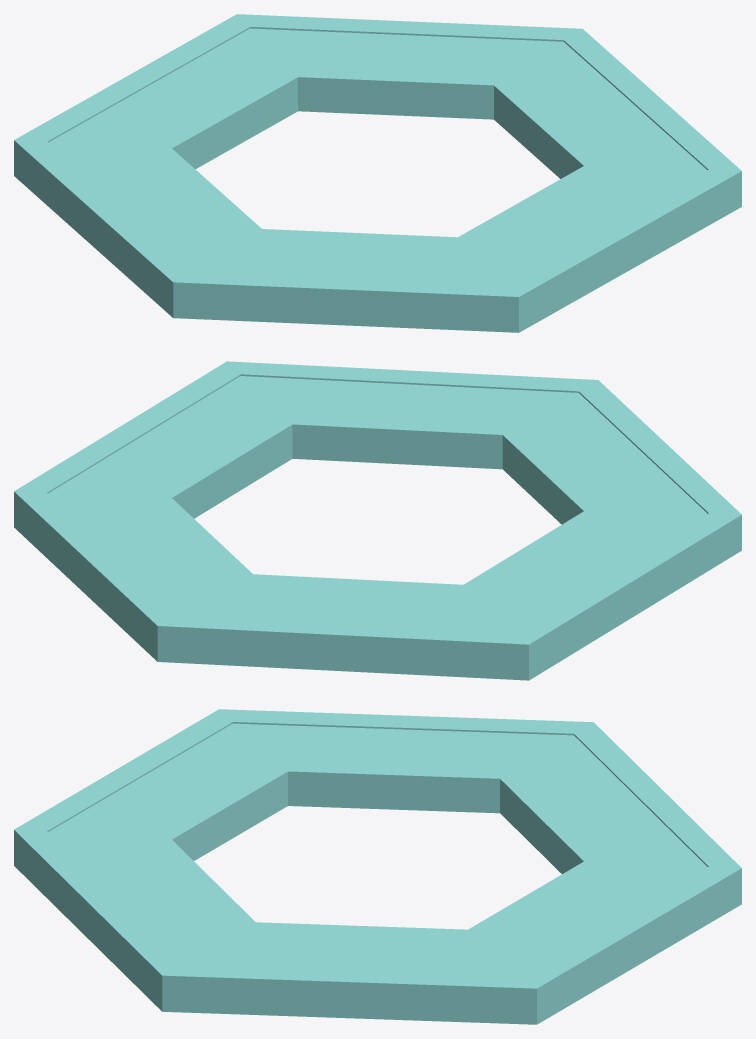
Rendered from Platform_hole_2.fbx.
3 renders of one model, top to bottom at view 1: azimuth 30°, elevation 25°; view 2: azimuth 150°, elevation 25°; view 3: azimuth 270°, elevation 25°, orthographic.
Parts seen in each view (by area): view 1: Cube.156; view 2: Cube.156; view 3: Cube.156.
Part boxes in pixels (x1,y1,x2,y2): Cube.156: [14, 14, 741, 332]; Cube.156: [14, 361, 741, 680]; Cube.156: [14, 709, 741, 1024].
Size of the model in its own units: 30.99 by 1.87 by 34.12.
